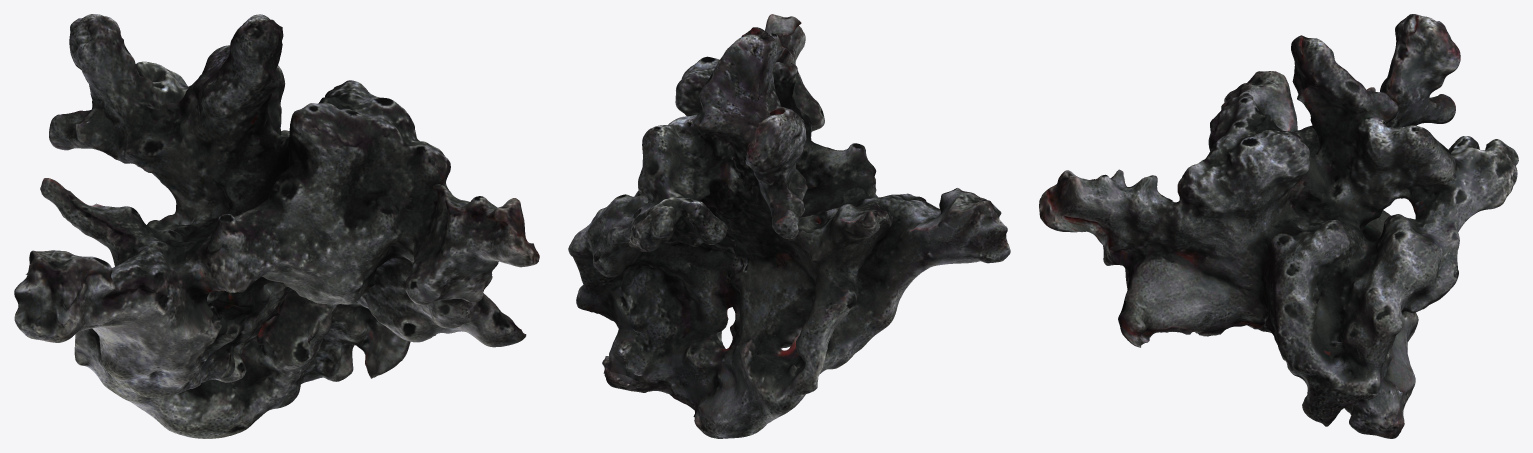
Rendered from MZUR3D-070.glb.
3 renders of one model, left to right at view 1: azimuth 30°, elevation 25°; view 2: azimuth 150°, elevation 25°; view 3: azimuth 270°, elevation 25°, orthographic. The views are drawn at different scales.
Visible parts, largest first — view 1: MZUR3D-070; view 2: MZUR3D-070; view 3: MZUR3D-070.
Part boxes in pixels (left/top/right/bottom): MZUR3D-070: left=14, top=14, right=539, bottom=438; MZUR3D-070: left=568, top=14, right=1010, bottom=438; MZUR3D-070: left=1039, top=14, right=1518, bottom=438.
Bounding box in the file's own units: 1.15 × 1.09 × 1.25.
Materials: 1 (1 with a texture image).
